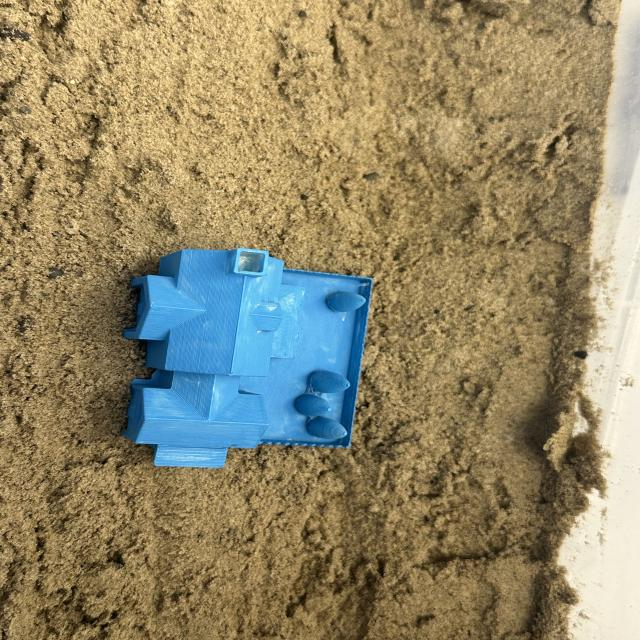house: (123, 246, 374, 470)
